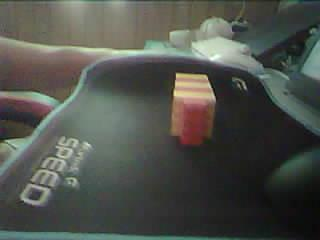lego: (168, 71, 216, 145)
